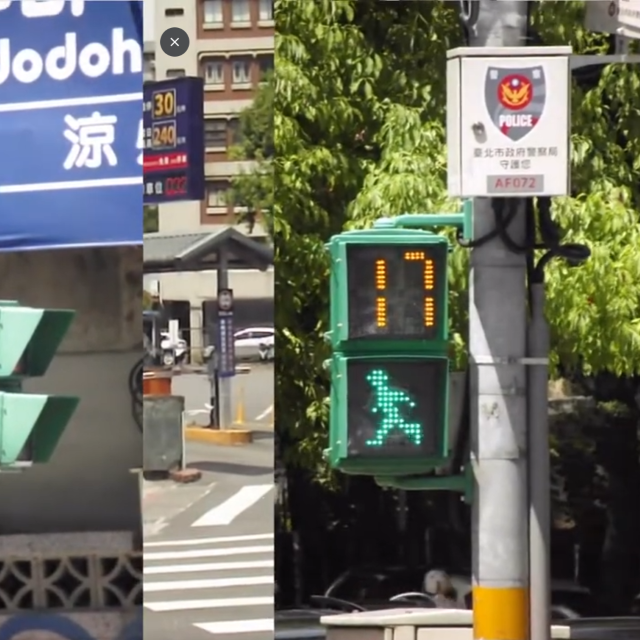green_light: (330, 235, 450, 466)
